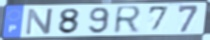7: (147, 5, 172, 34), (177, 4, 200, 34)
8: (58, 8, 82, 35)
9: (88, 6, 112, 35)
N: (24, 7, 56, 36)
R: (112, 5, 144, 36)
